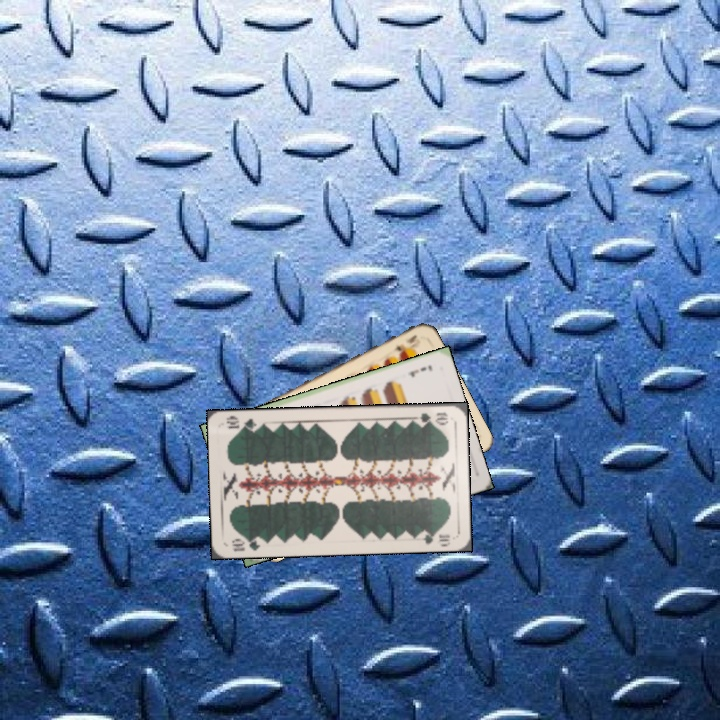E10: (390, 331, 419, 354)
E7: (405, 361, 435, 380)
G10: (228, 533, 266, 554), (411, 408, 451, 427)
